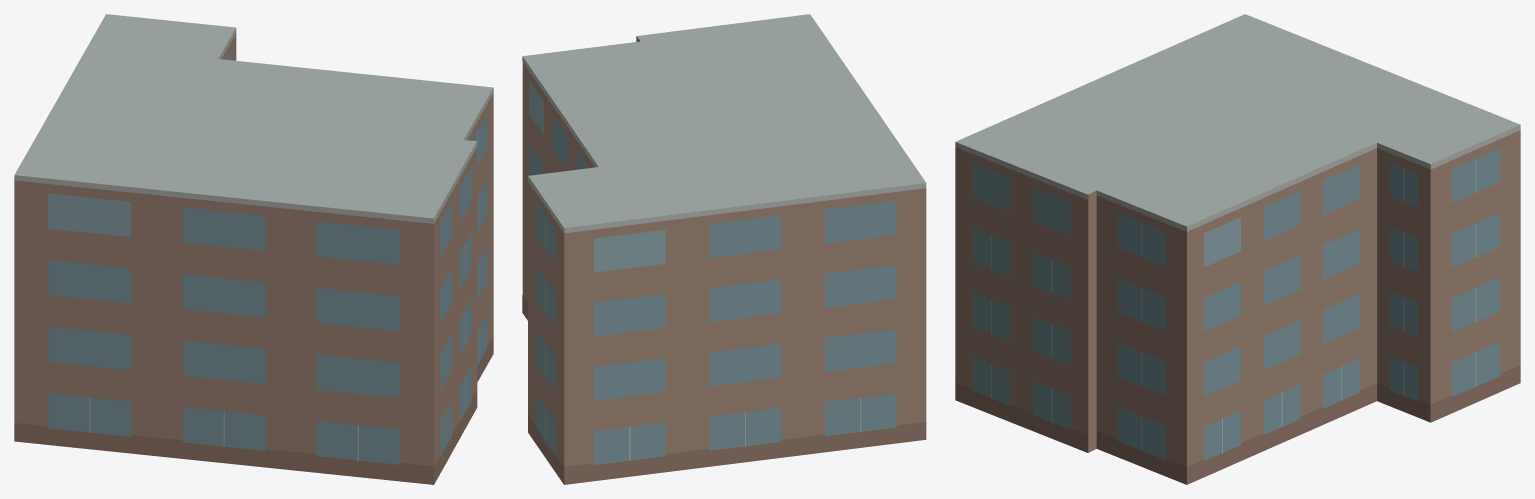
File: survey-upis-32749084.glb
3 views of the same model, side by side, from view 1: azimuth 30°, elevation 25°; view 2: azimuth 150°, elevation 25°; view 3: azimuth 270°, elevation 25° (orthographic). The views are drawn at different scales.
Parts seen in each view (by area): view 1: survey-upis-32749084.tmp; view 2: survey-upis-32749084.tmp; view 3: survey-upis-32749084.tmp.
Boxes of the visible parts, x1=… form: survey-upis-32749084.tmp: x1=14, y1=14, x2=493, y2=484; survey-upis-32749084.tmp: x1=522, y1=14, x2=926, y2=484; survey-upis-32749084.tmp: x1=955, y1=14, x2=1520, y2=484.
Size of the model in its own units: 21.1 by 11.95 by 23.71.
